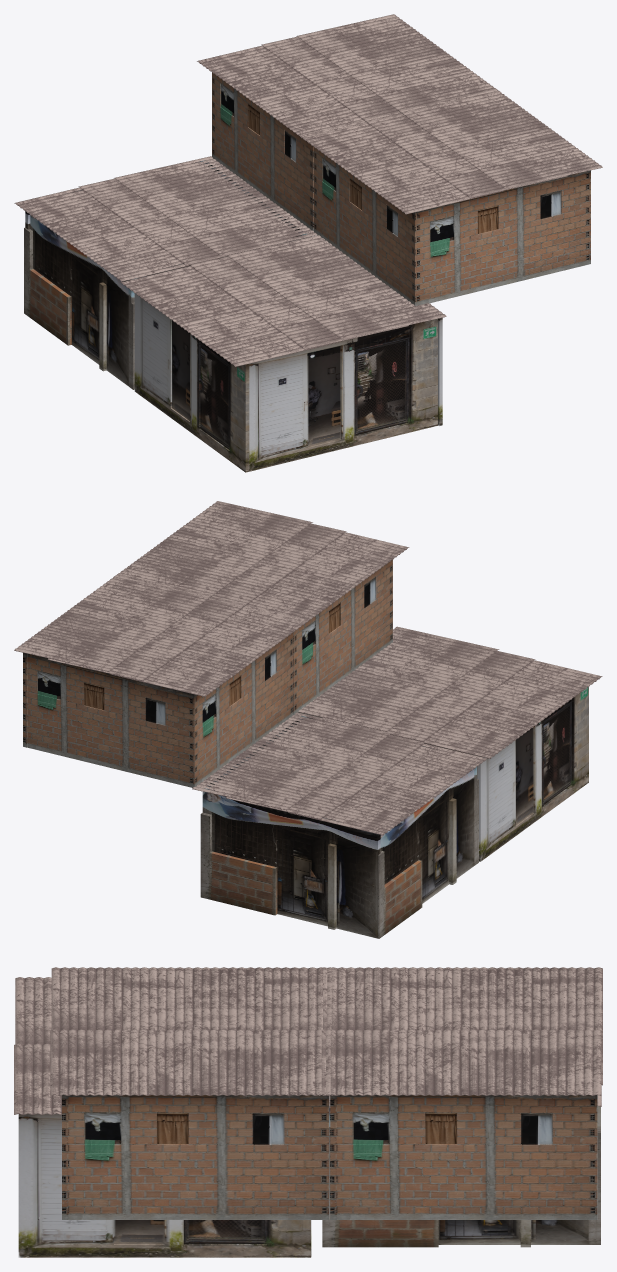
File: casa_izquierda_16.fbx
3 views of the same model, one above another, from view 1: azimuth 30°, elevation 25°; view 2: azimuth 150°, elevation 25°; view 3: azimuth 270°, elevation 25° (orthographic). The views are drawn at different scales.
Parts seen in each view (by area): view 1: Techo 16.004, Techo 16.002, Techo 16.005, casa_izquierda_17A.002, Techo 16.003, casa_izquierda_16A.005, casa_izquierda_17A.001, casa_izquierda_16, casa_izquierda_16A.004, casa_izquierda_16A, casa_izquierda_16.001; view 2: Techo 16.004, Techo 16.002, Techo 16.003, Techo 16.005, casa_izquierda_16.003, casa_izquierda_16A.002, casa_izquierda_17A.001, casa_izquierda_16, casa_izquierda_16A, casa_izquierda_16A.004; view 3: Techo 16.003, Techo 16.005, casa_izquierda_16A.003, casa_izquierda_16A.007, casa_izquierda_17A.004, casa_izquierda_16.002, Techo 16.004, casa_izquierda_16A.001, casa_izquierda_16A.005, casa_izquierda_16.003.
Part boxes in pixels (x1=…): Techo 16.004: x1=120, y1=235, x2=446, y2=366; Techo 16.002: x1=14, y1=156, x2=317, y2=281; Techo 16.005: x1=298, y1=89, x2=602, y2=214; casa_izquierda_17A.002: x1=249, y1=319, x2=437, y2=471; Techo 16.003: x1=197, y1=14, x2=499, y2=139; casa_izquierda_16A.005: x1=415, y1=170, x2=590, y2=305; casa_izquierda_17A.001: x1=134, y1=293, x2=249, y2=472; casa_izquierda_16: x1=24, y1=215, x2=128, y2=385; casa_izquierda_16A.004: x1=314, y1=147, x2=415, y2=305; casa_izquierda_16A: x1=212, y1=72, x2=313, y2=230; casa_izquierda_16.001: x1=128, y1=233, x2=310, y2=389; Techo 16.004: x1=298, y1=626, x2=602, y2=758; Techo 16.002: x1=192, y1=712, x2=487, y2=835; Techo 16.003: x1=14, y1=574, x2=309, y2=696; Techo 16.005: x1=115, y1=501, x2=409, y2=623; casa_izquierda_16.003: x1=200, y1=788, x2=380, y2=938; casa_izquierda_16A.002: x1=27, y1=653, x2=194, y2=787; casa_izquierda_17A.001: x1=477, y1=687, x2=588, y2=861; casa_izquierda_16: x1=378, y1=769, x2=474, y2=938; casa_izquierda_16A: x1=194, y1=632, x2=293, y2=786; casa_izquierda_16A.004: x1=294, y1=559, x2=392, y2=714; Techo 16.003: x1=318, y1=967, x2=602, y2=1095; Techo 16.005: x1=50, y1=967, x2=333, y2=1095; casa_izquierda_16A.003: x1=336, y1=1095, x2=597, y2=1219; casa_izquierda_16A.007: x1=68, y1=1095, x2=329, y2=1219; casa_izquierda_17A.004: x1=18, y1=1114, x2=310, y2=1257; casa_izquierda_16.002: x1=322, y1=1106, x2=588, y2=1247; Techo 16.004: x1=14, y1=977, x2=61, y2=1114; casa_izquierda_16A.001: x1=330, y1=1095, x2=336, y2=1219; casa_izquierda_16A.005: x1=62, y1=1095, x2=68, y2=1219; casa_izquierda_16.003: x1=588, y1=1106, x2=600, y2=1244.
Size of the model in its own units: 1130 by 595 by 1149.
